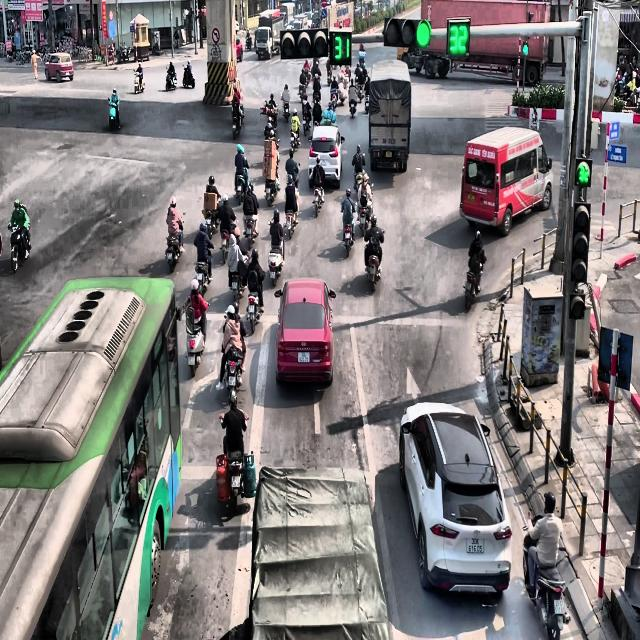lisence_plate: (466, 537, 484, 554), (553, 597, 565, 615), (297, 351, 310, 364), (381, 135, 397, 145), (467, 192, 475, 202), (386, 150, 393, 158), (322, 159, 328, 166)
